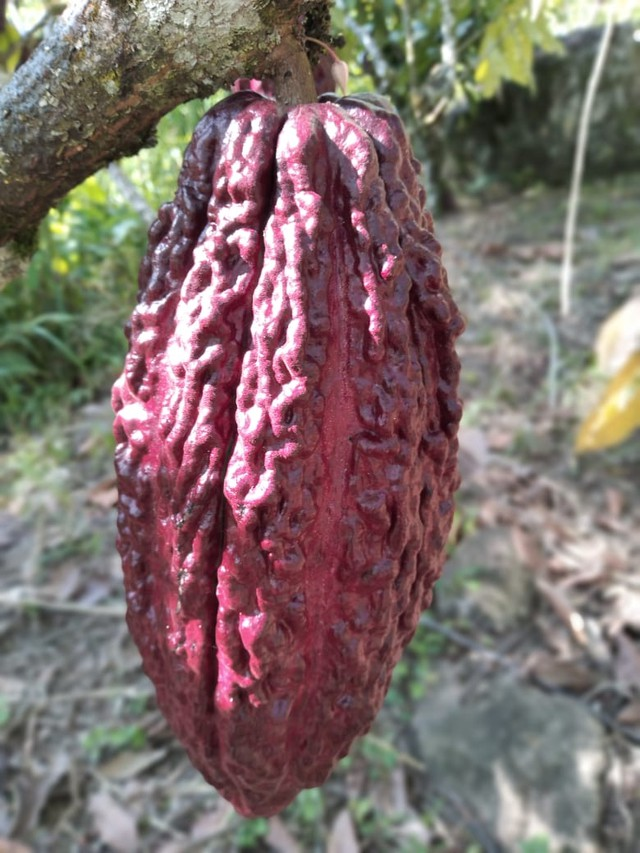Health: (112, 89, 467, 824)
